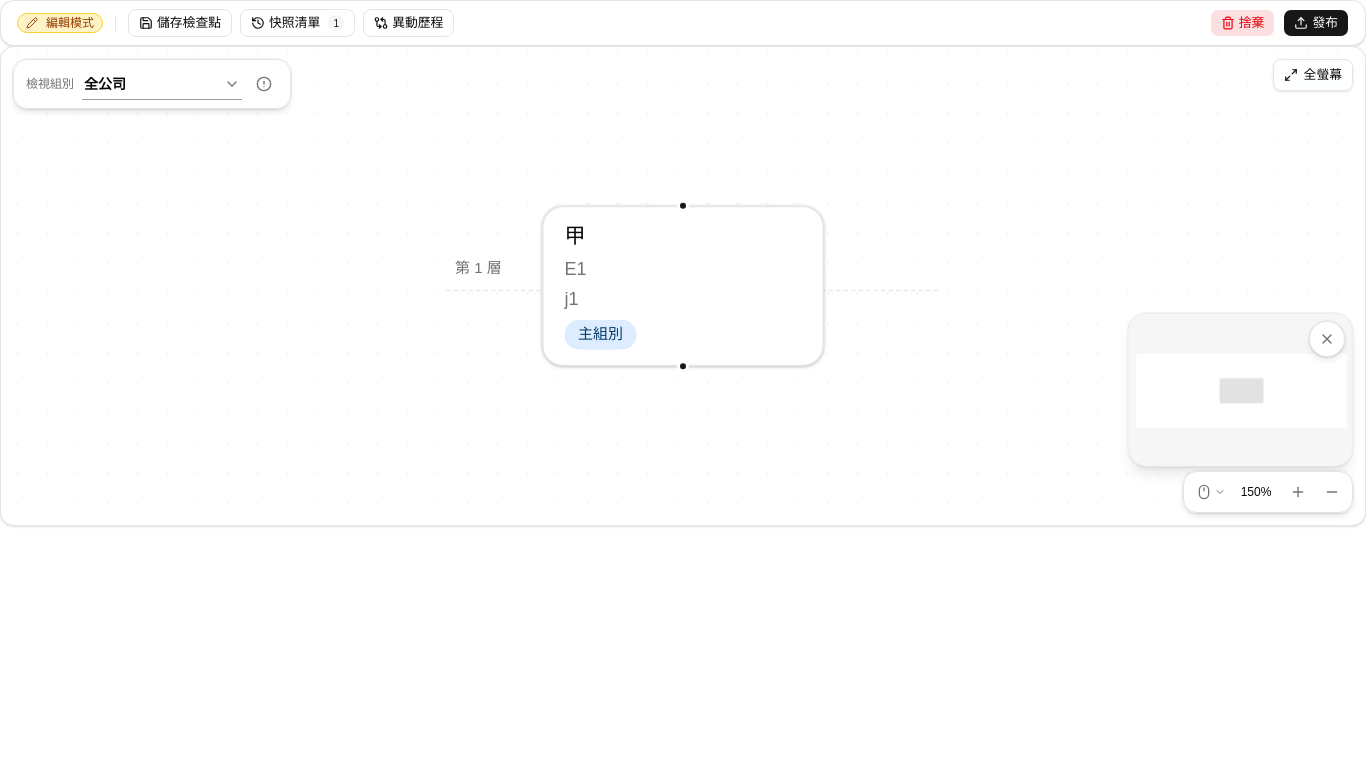
Test: ReportingEditCanvas › 儲存檢查點流程：確認後呼叫 saveCheckpoint 並開啟快照面板，可關閉與切換
# 進入儲存檢查點輸入 → 填說明 → 確認 → 委派 editing.saveCheckpoint 並開啟面板。
Step 1. Click the button "儲存檢查點" → [180, 23], box [128,9,232,37]
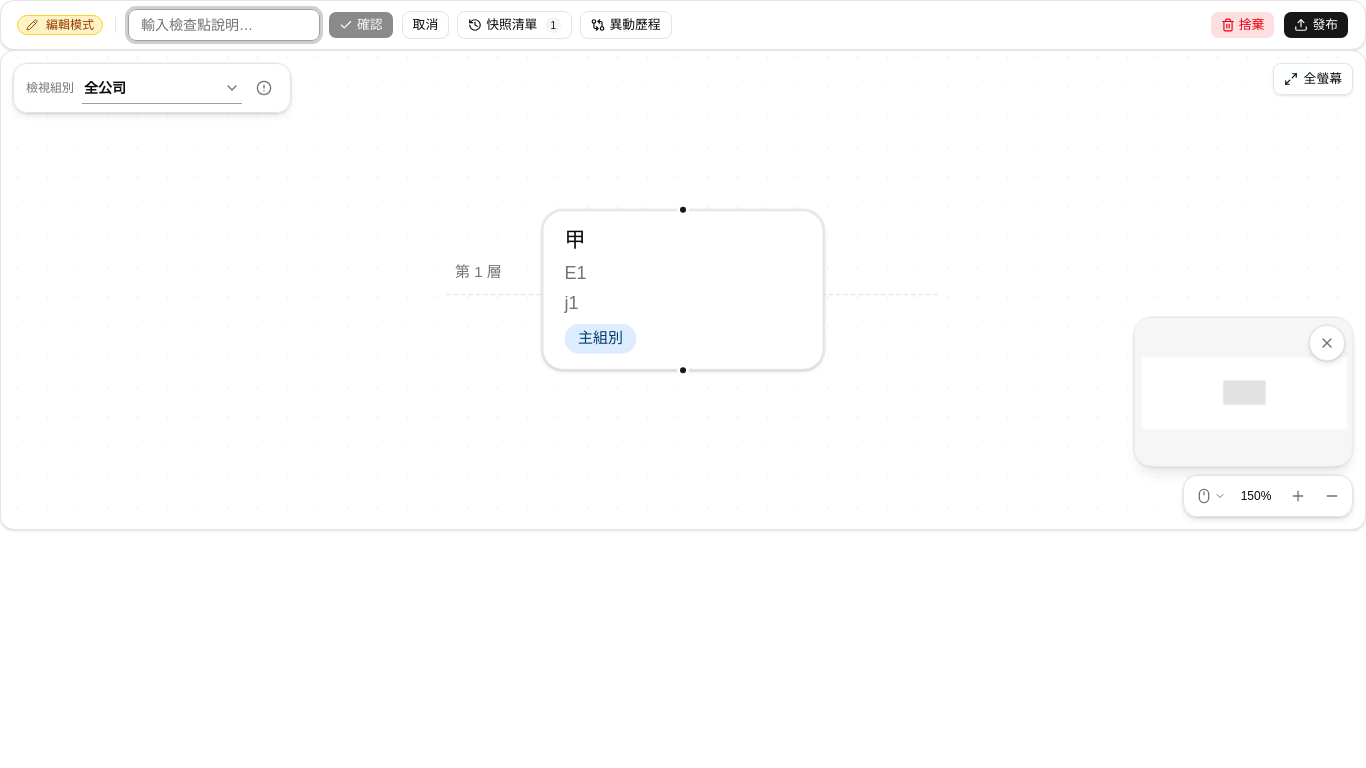
Step 2. Type "調整甲層級" into the field with placeholder "輸入檢查點說明…" → [224, 25], box [128,9,320,41]
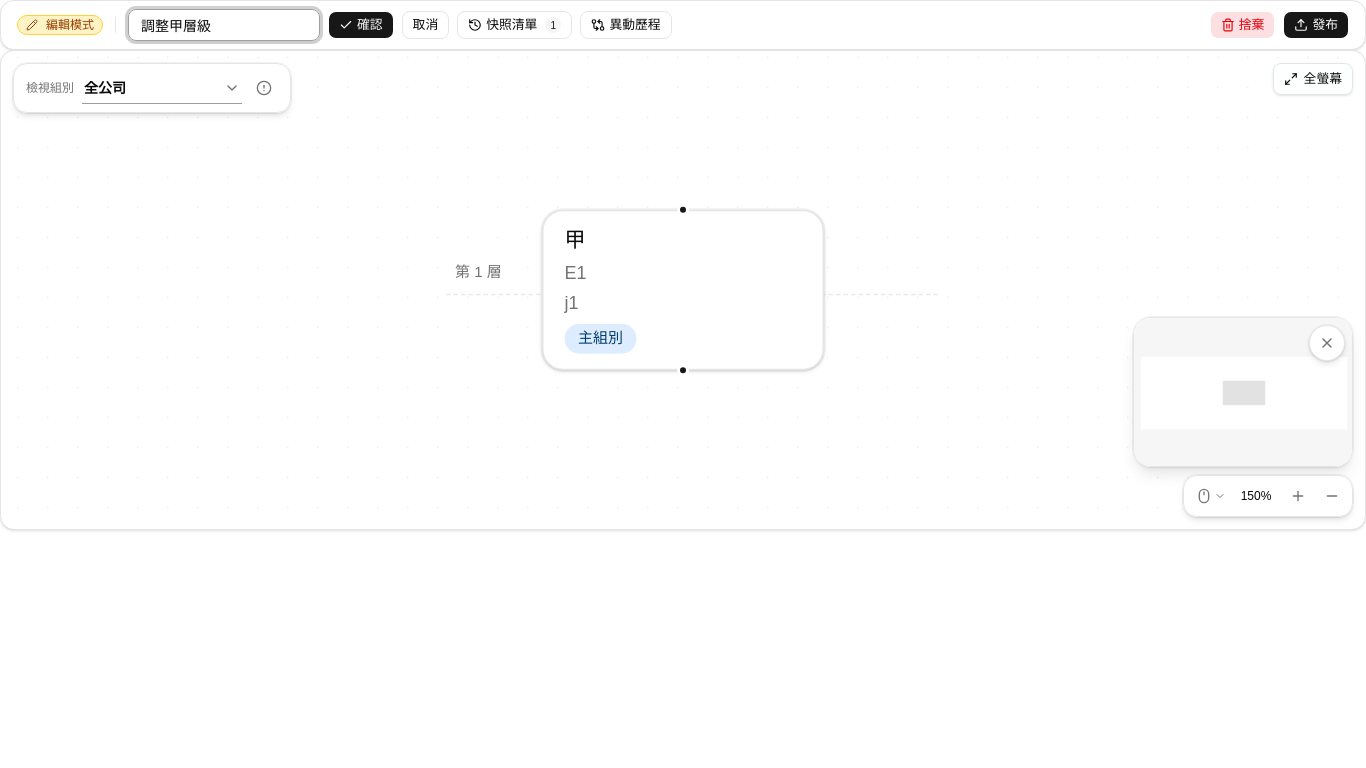
Step 3. Click the button "確認" → [361, 25], box [328,11,394,39]
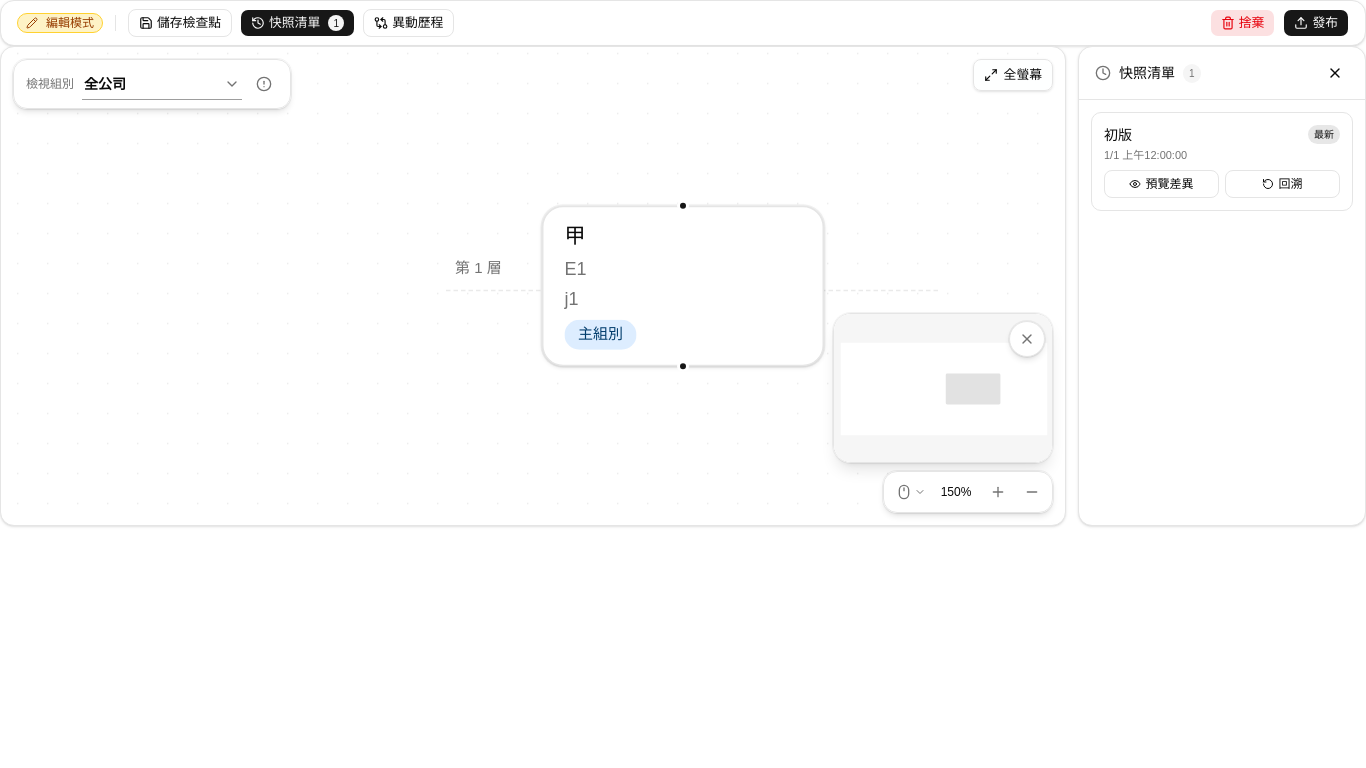
Now the button named "關閉快照清單" is shown
# 關閉快照面板（onClose）。
Step 4. Click the button named "關閉快照清單" → [1335, 73], box [1321,59,1349,87]
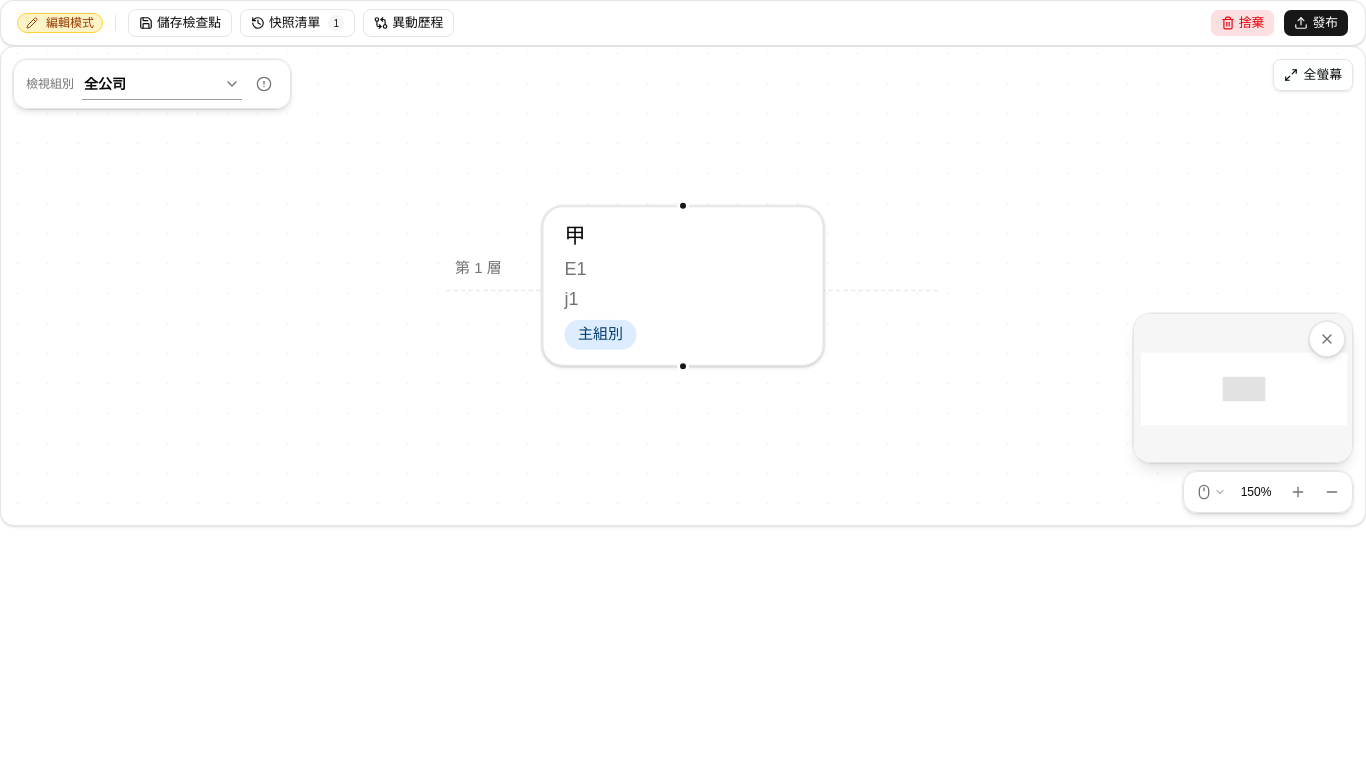
Now the button "關閉快照清單" is gone
# 以工具列的「快照清單」toggle 再次開啟（onToggleSnapshotPanel）。
Step 5. Click the button "快照清單 1" → [298, 23], box [240,9,355,37]
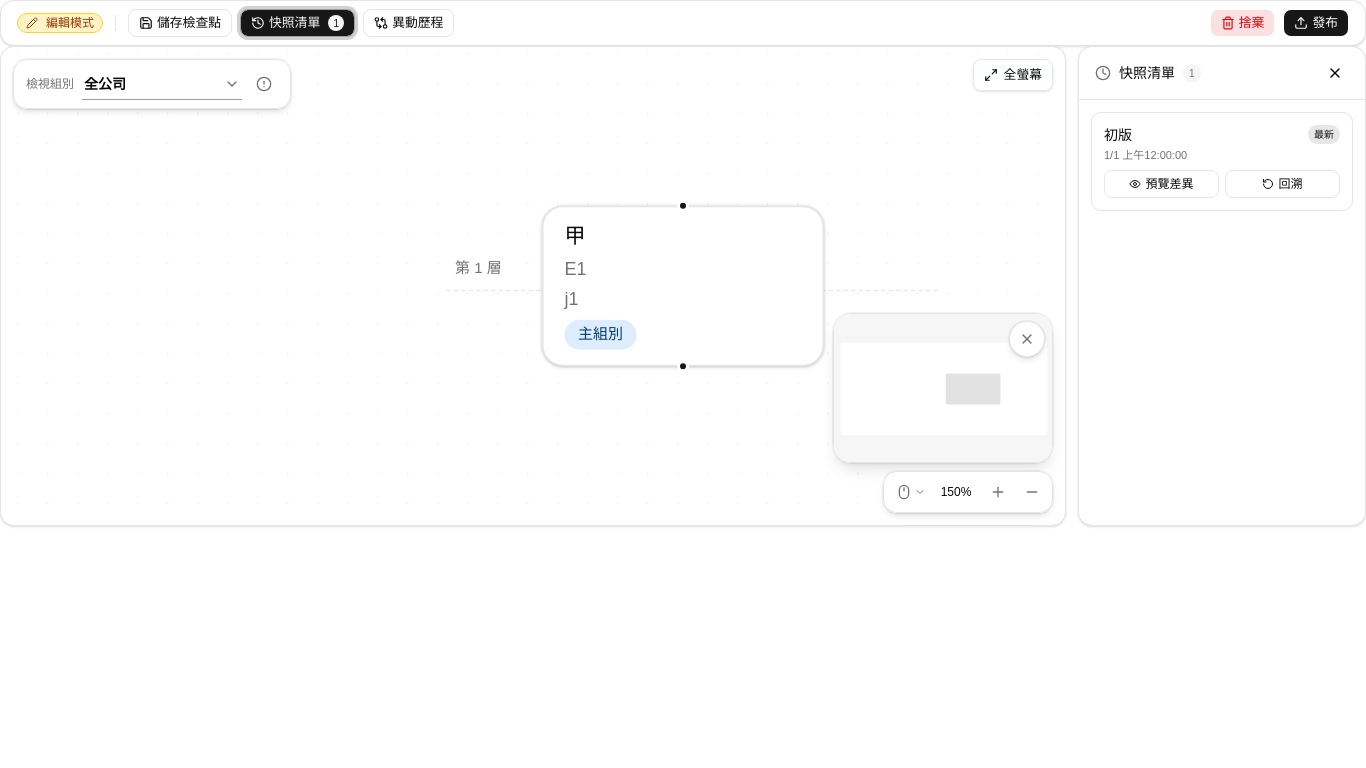
Now the button named "關閉快照清單" is shown, box [1321,59,1349,87]
